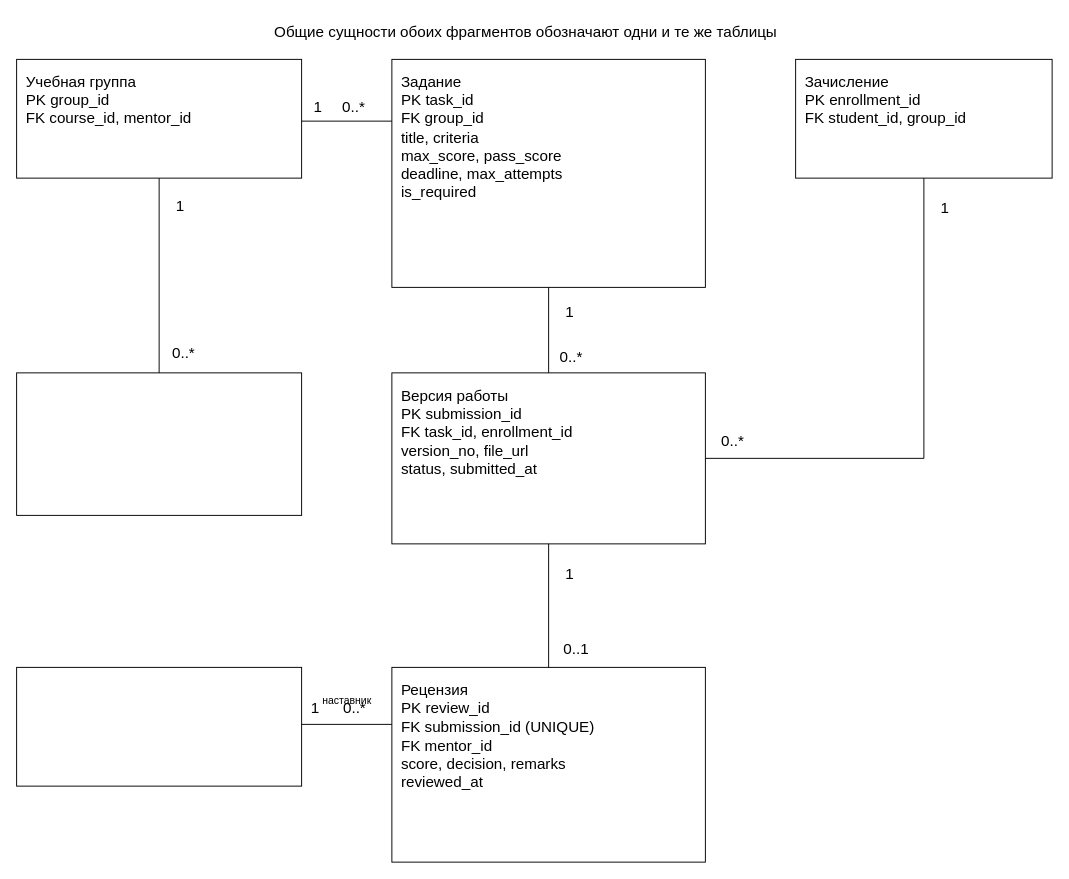
Some shapes in this 1069 by 879 pixel diagram are drawn without their labels. Here are the shapes that lost their labels. From the top down, the box of each, then its label:
(16, 372, 302, 515): Материал PK material_id FK group_id title, file_url
(16, 666, 302, 786): Пользователь PK user_id full_name, role
